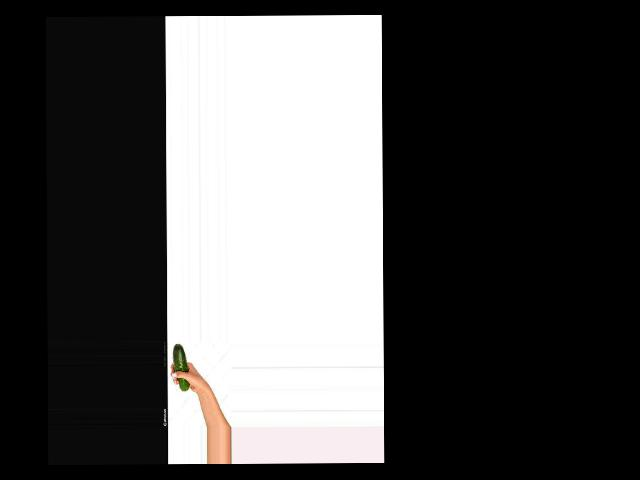cucumber: (172, 343, 189, 390)
